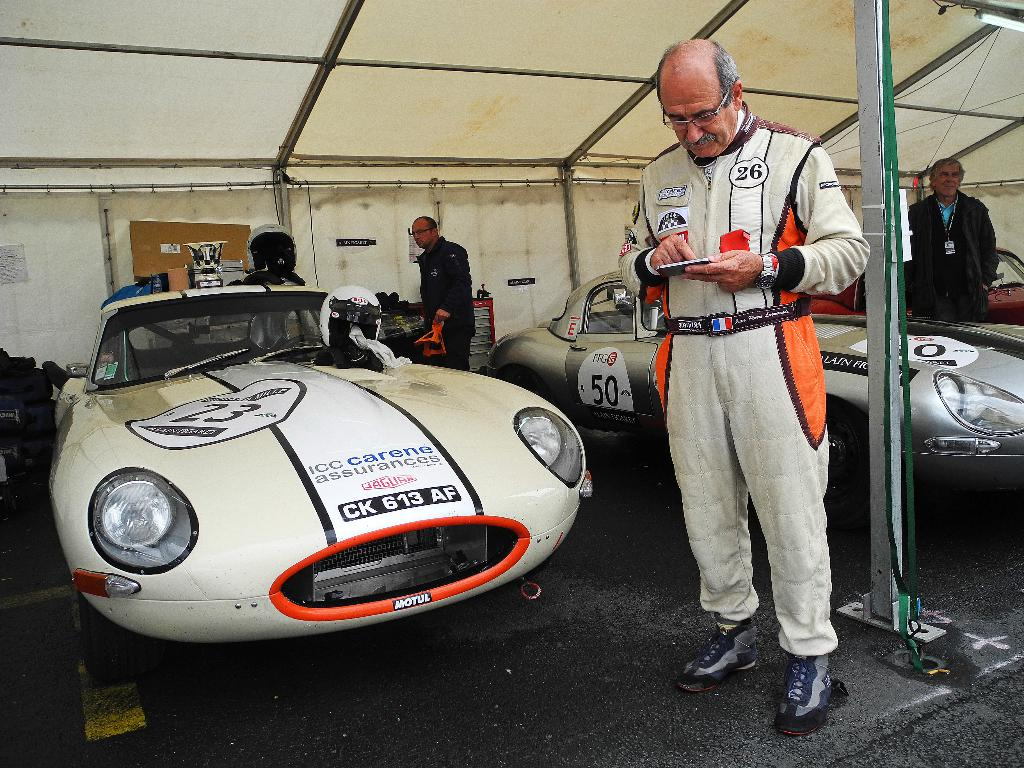mobil: (44, 265, 617, 680)
